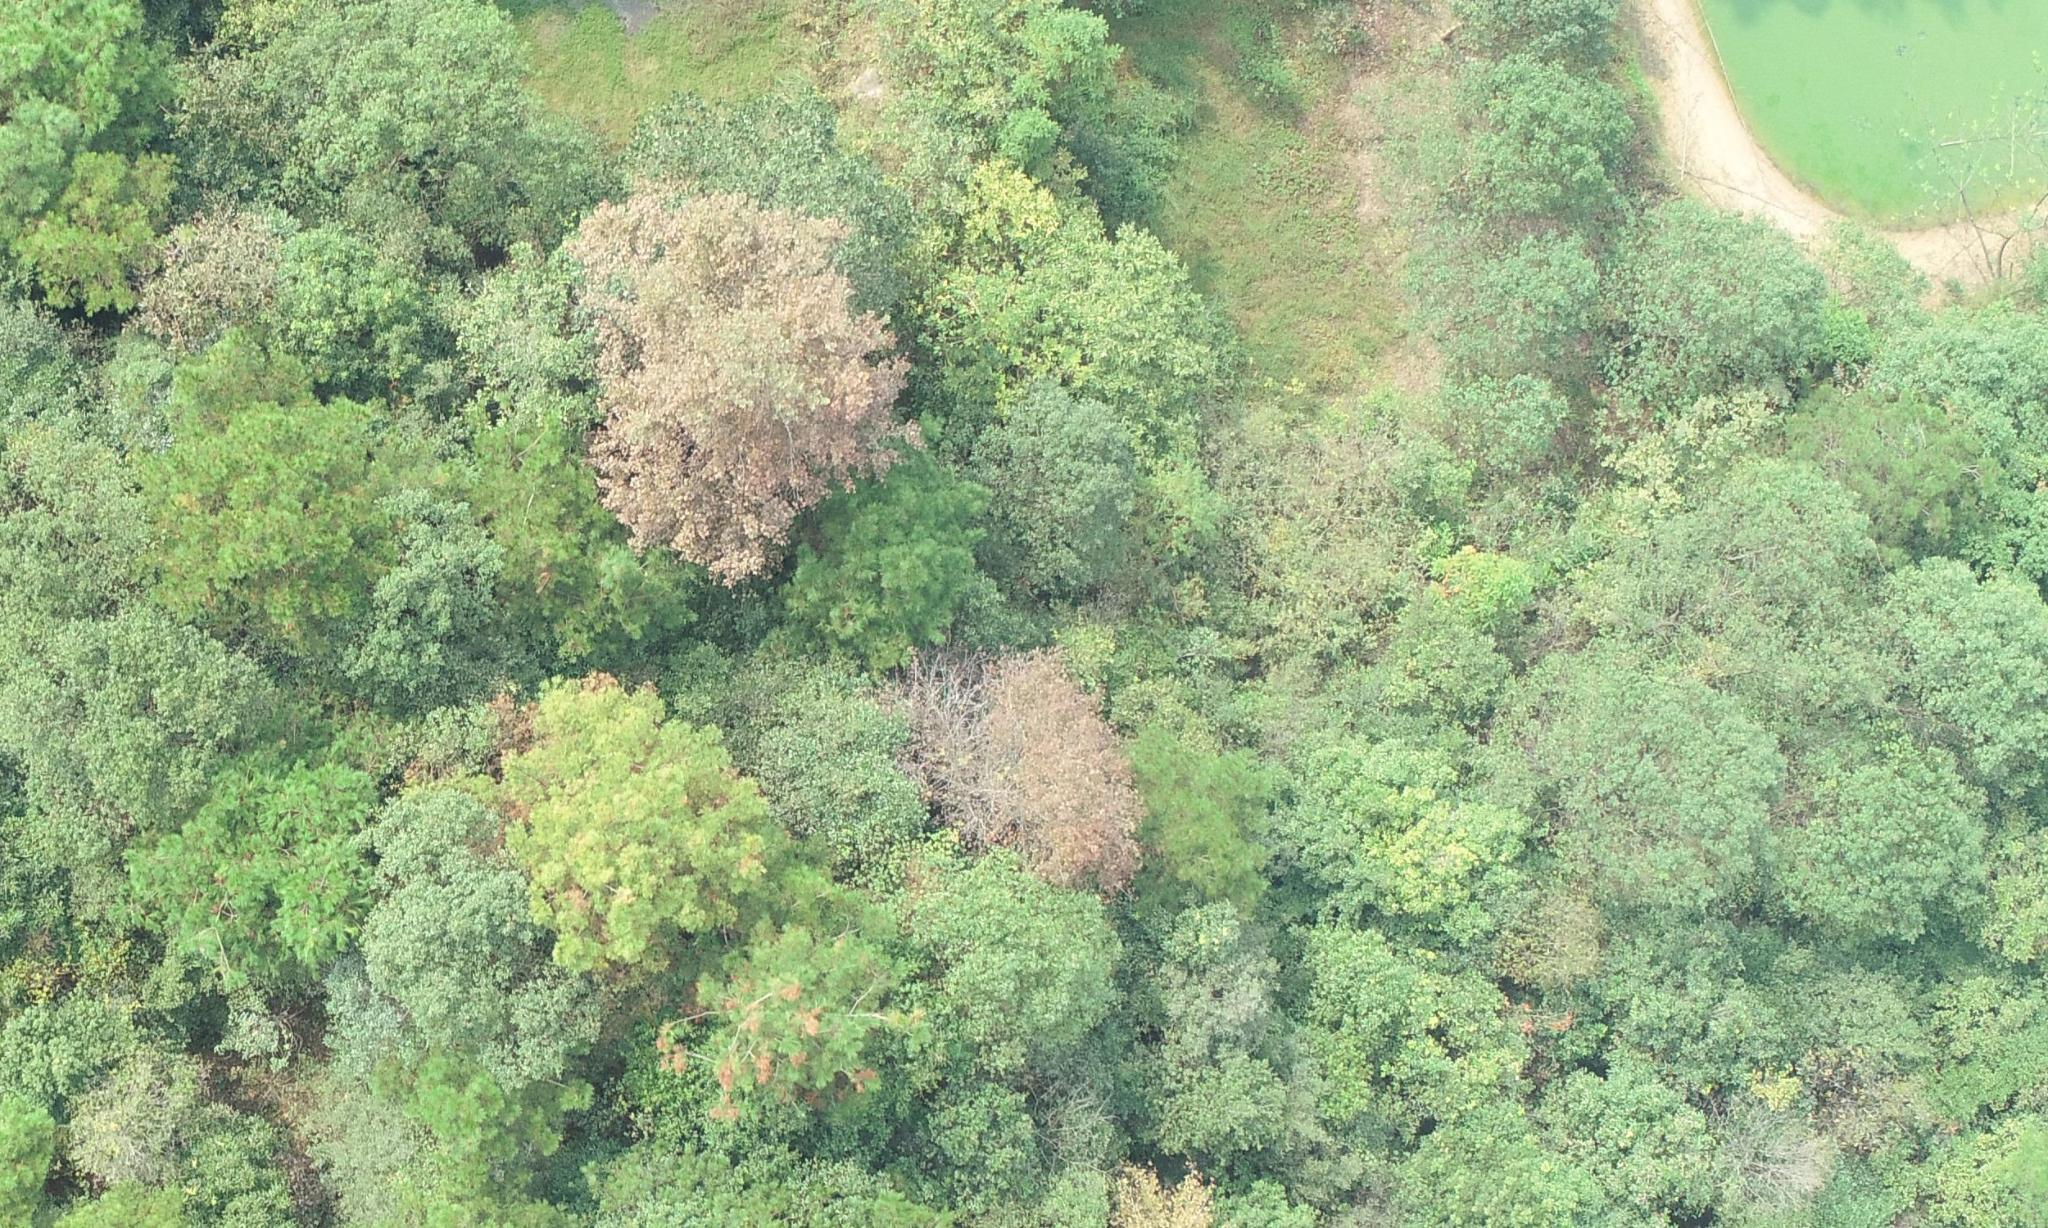heavy: (561, 178, 917, 580), (892, 642, 1148, 887)
light: (642, 937, 906, 1136)
